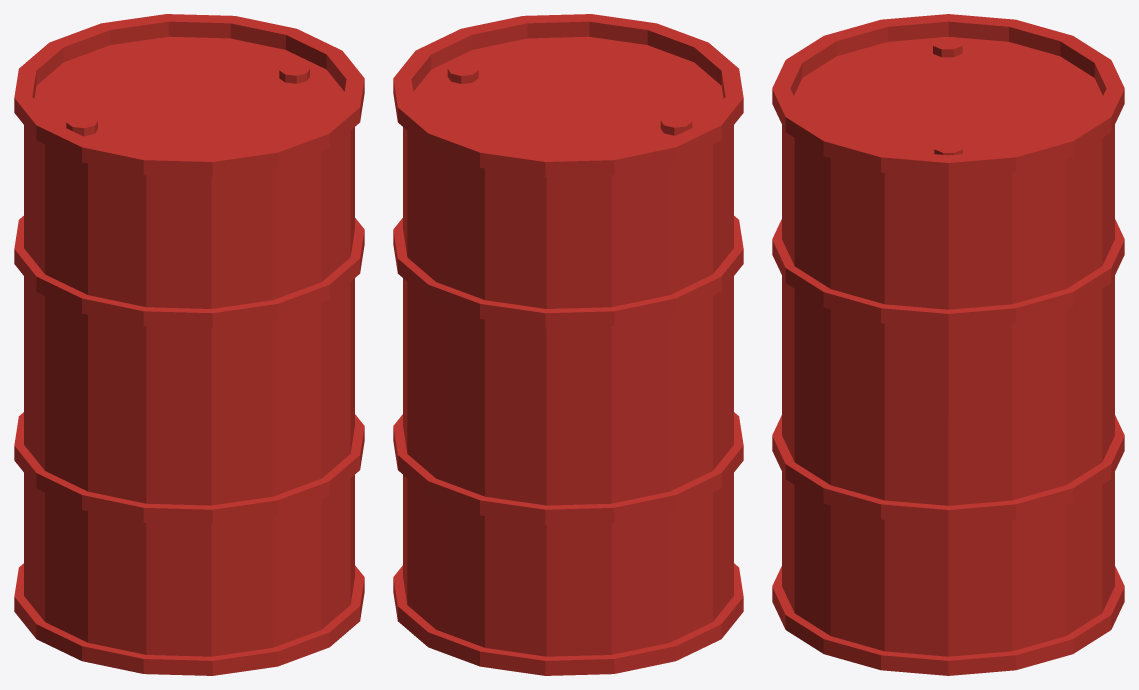
Rendered from ExplosiveBarrel.v.2.fbx.
The picture shows the model from 3 angles, left to right: view 1: azimuth 30°, elevation 25°; view 2: azimuth 150°, elevation 25°; view 3: azimuth 270°, elevation 25°; orthographic projection.
Parts seen in each view (by area): view 1: Circle; view 2: Circle; view 3: Circle.
Boxes of the visible parts, box(x1,y1,x2,y2) form: Circle: box(14, 14, 364, 675); Circle: box(393, 14, 743, 675); Circle: box(772, 14, 1124, 675).
Bounding box in the file's own units: 212 × 340 × 212.
